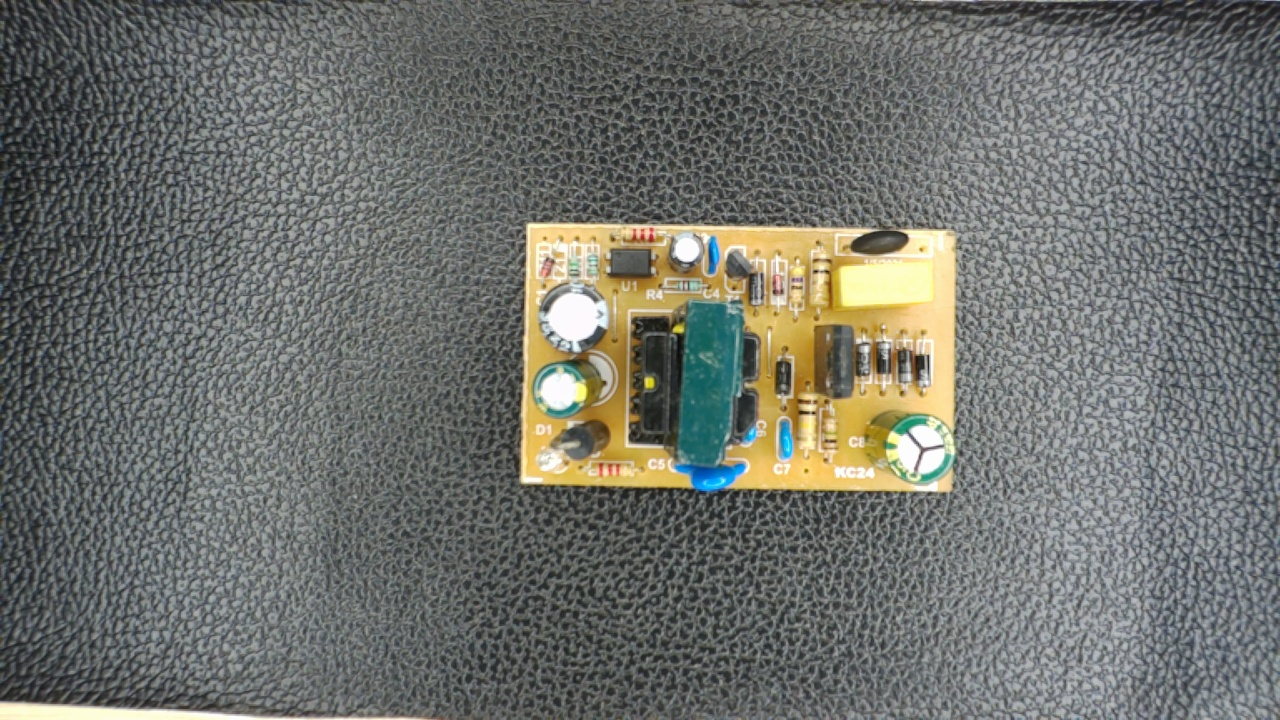fuse: (843, 228, 923, 255)
hv_capacitor: (861, 408, 956, 486)
mov: (663, 458, 753, 489)
optocoupler: (600, 243, 663, 281)
